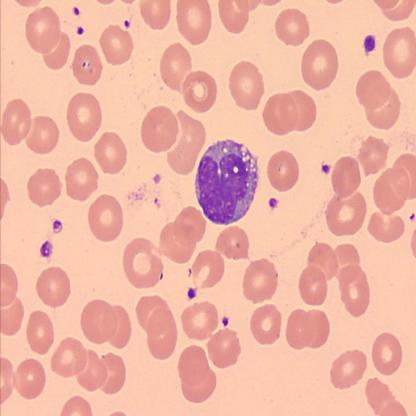Monocyte: (193, 136, 261, 226)
